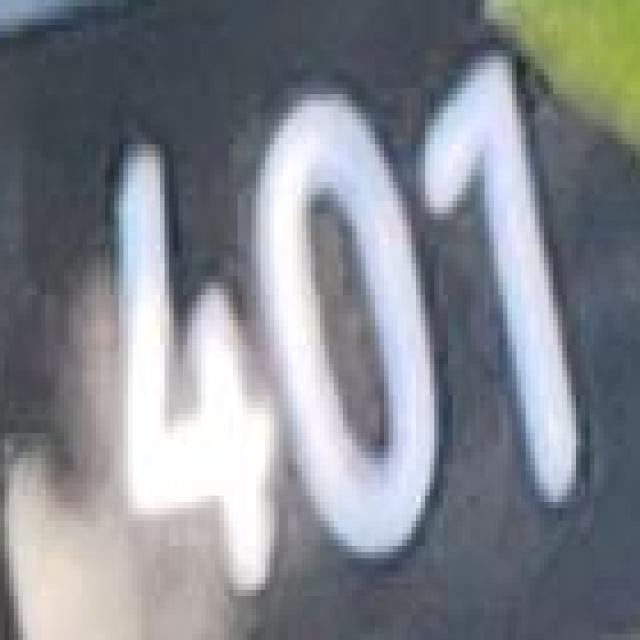character: (246, 88, 448, 573), (104, 132, 289, 603), (419, 48, 593, 525)
